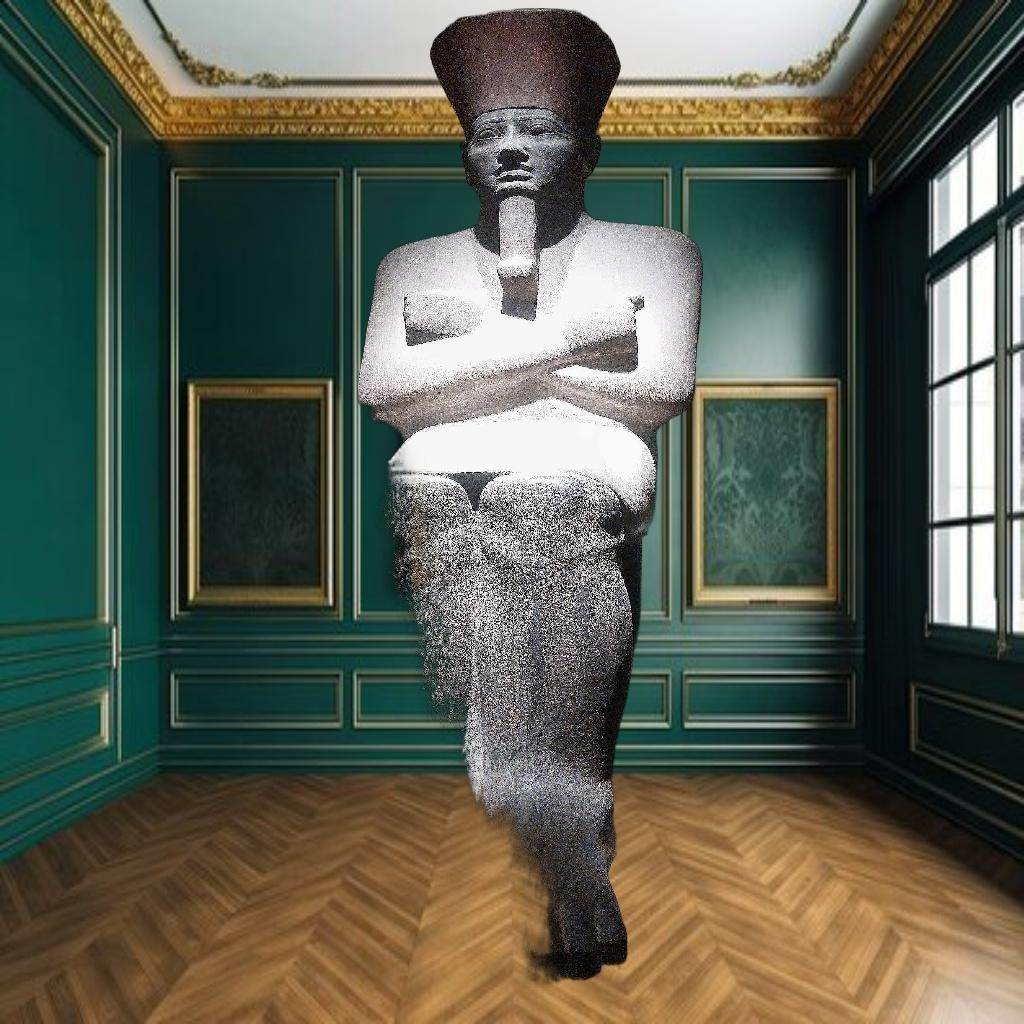Mentuhotep Nebhetpre: (224, 8, 706, 988)
